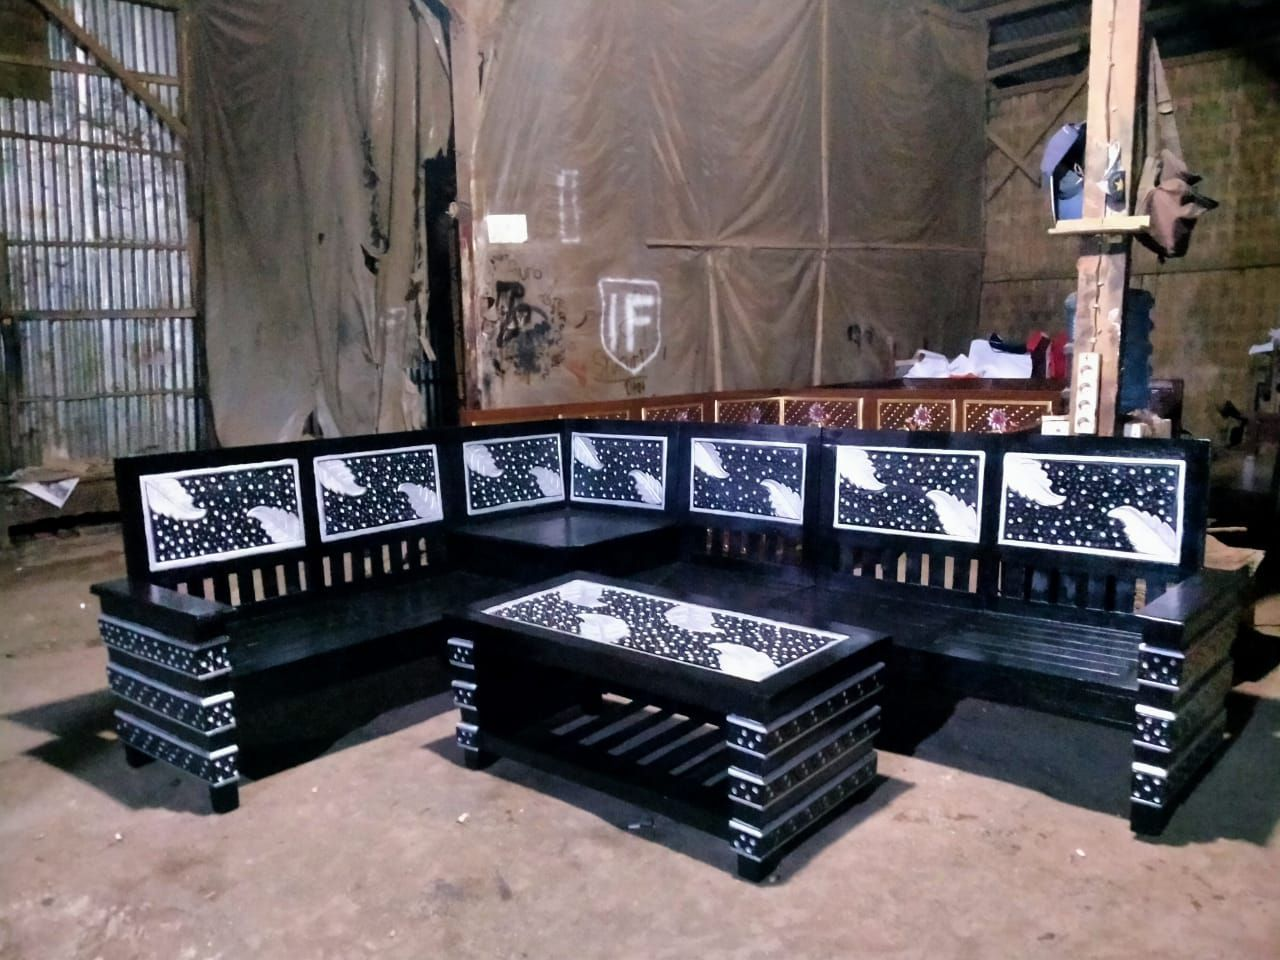meja: (437, 574, 898, 875)
sova: (92, 449, 1269, 870)
